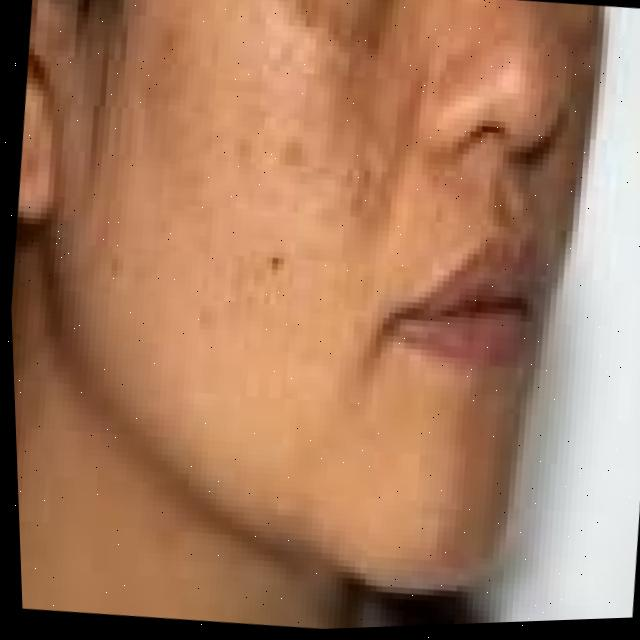Melasma: (276, 15, 403, 155)
